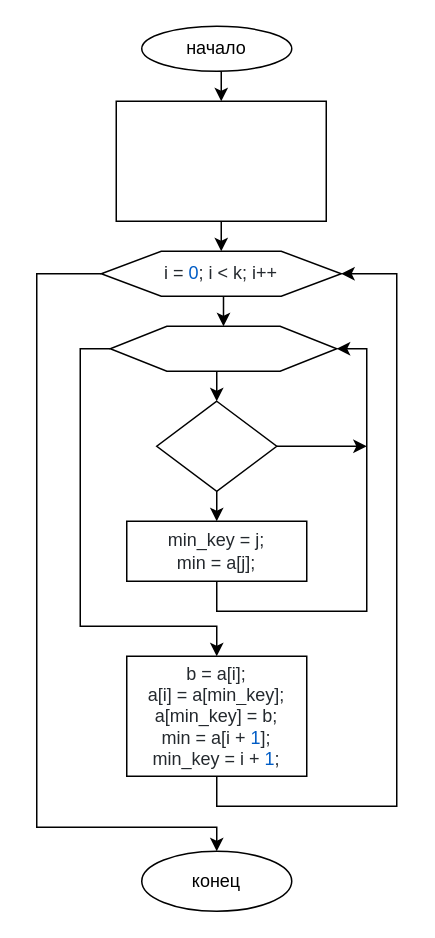
Some shapes in this 435 by 938 pixel diagram are drawn without their labels. The shapes that lost their labels are listed below. From the top down, each one's box as (x1, y1, x2, y2) in pixels, then its label:
(115, 100, 326, 221): int i, j, b; int const k = 6 ; int a[k]; int min = a[ 0 ]; int min_key = 0 ;
(109, 325, 337, 371): j = i + 1 ; j < k; j++
(155, 400, 277, 491): a[j] < min
